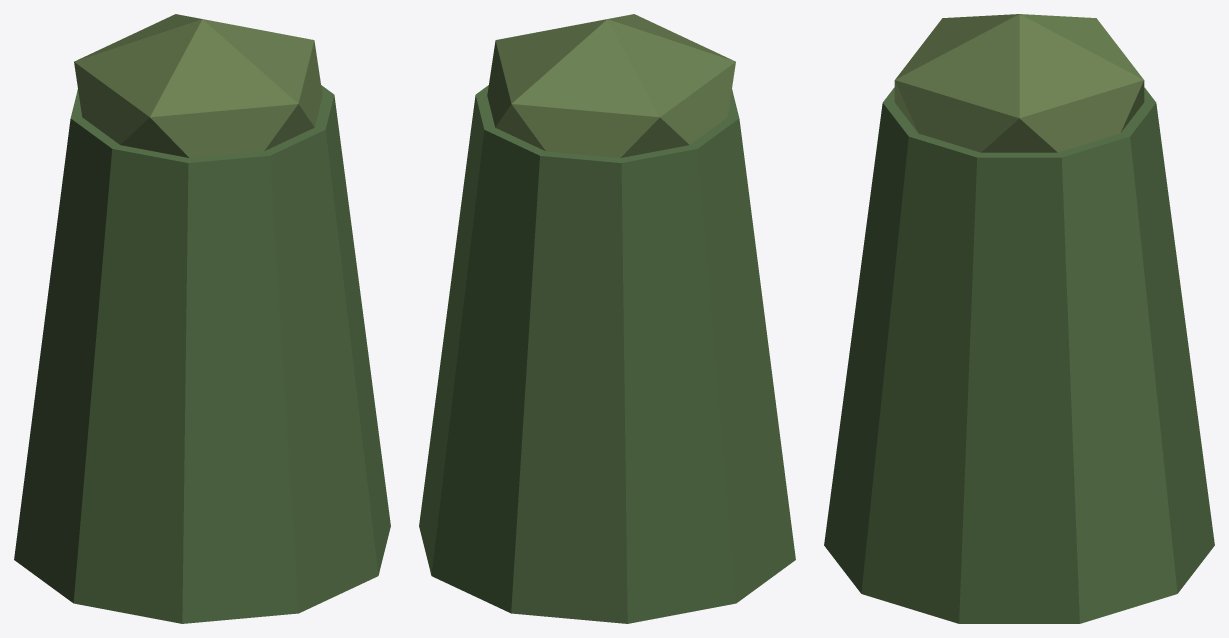
Rendered from desert-cactus.glb.
3 views of the same model, side by side, from view 1: azimuth 30°, elevation 25°; view 2: azimuth 150°, elevation 25°; view 3: azimuth 270°, elevation 25° (orthographic).
Parts seen in each view (by area): view 1: desert-cactus; view 2: desert-cactus; view 3: desert-cactus.
Boxes of the visible parts, x1,y1,x2,y2 form: desert-cactus: (14, 14, 390, 623); desert-cactus: (419, 14, 795, 623); desert-cactus: (824, 14, 1214, 623).
Bounding box in the file's own units: 0.3043 × 0.48 × 0.32.
